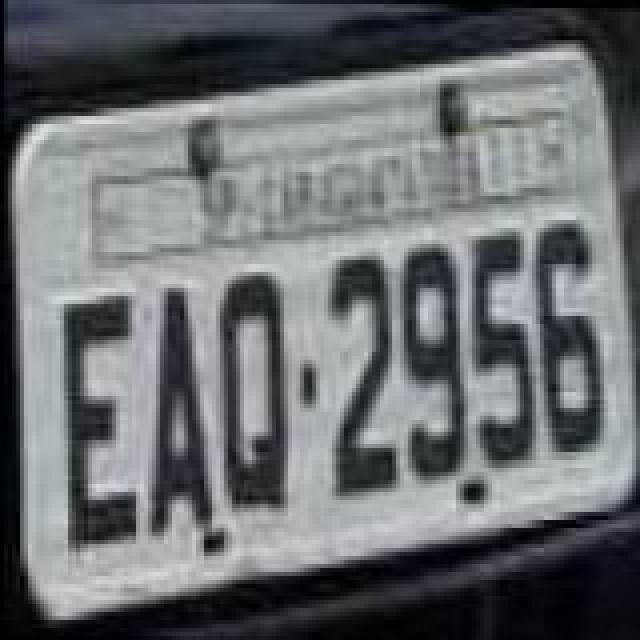2: (322, 250, 402, 498)
5: (466, 232, 538, 468)
6: (530, 220, 610, 452)
9: (398, 246, 470, 482)
A: (144, 288, 216, 544)
E: (54, 288, 138, 552)
Q: (208, 274, 296, 510)
